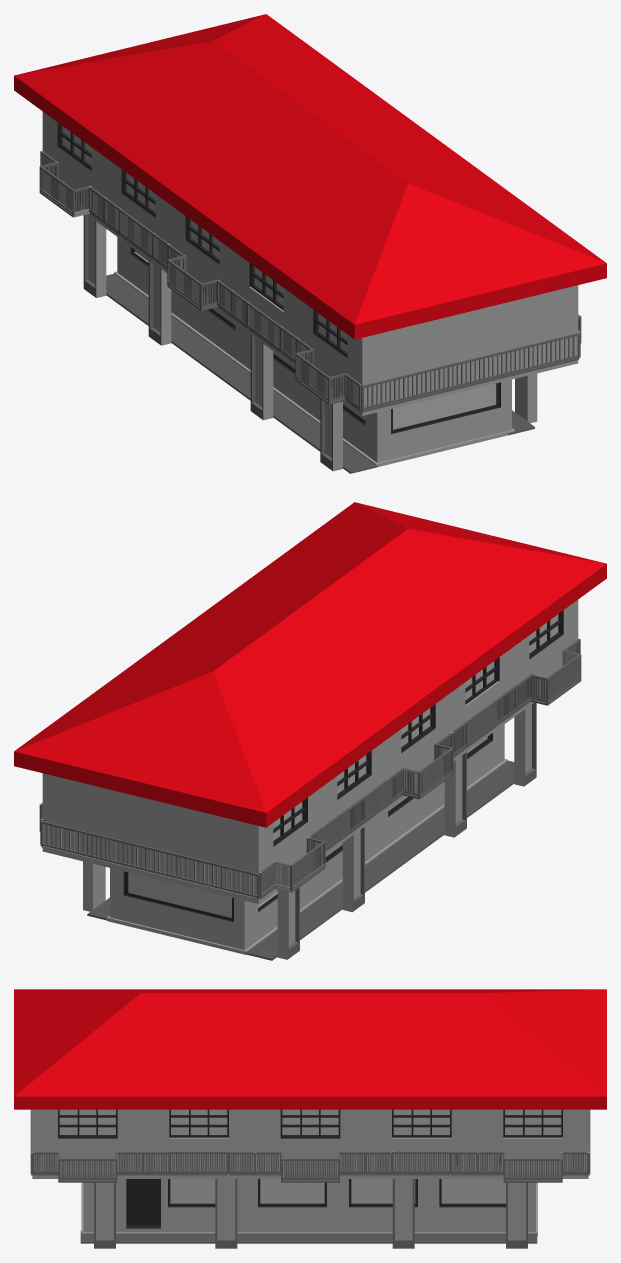
File: swafo.fbx
3 renders of one model, top to bottom at view 1: azimuth 30°, elevation 25°; view 2: azimuth 150°, elevation 25°; view 3: azimuth 270°, elevation 25°, orthographic. The views are drawn at different scales.
Parts seen in each view (by area): view 1: building_002, building_001, Cube.001; view 2: building_002, building_001, Cube.001; view 3: building_002, building_001, Cube.001.
Part boxes in pixels (<box>): building_002: <box>14,14,606,415</box>; building_001: <box>114,237,515,467</box>; Cube.001: <box>83,214,537,473</box>; building_002: <box>14,502,606,903</box>; building_001: <box>106,724,507,954</box>; Cube.001: <box>83,702,536,960</box>; building_002: <box>14,989,606,1182</box>; building_001: <box>81,1179,537,1235</box>; Cube.001: <box>80,1179,537,1248</box>.
Bounding box in the file's own units: 1394 × 1285 × 3259.
